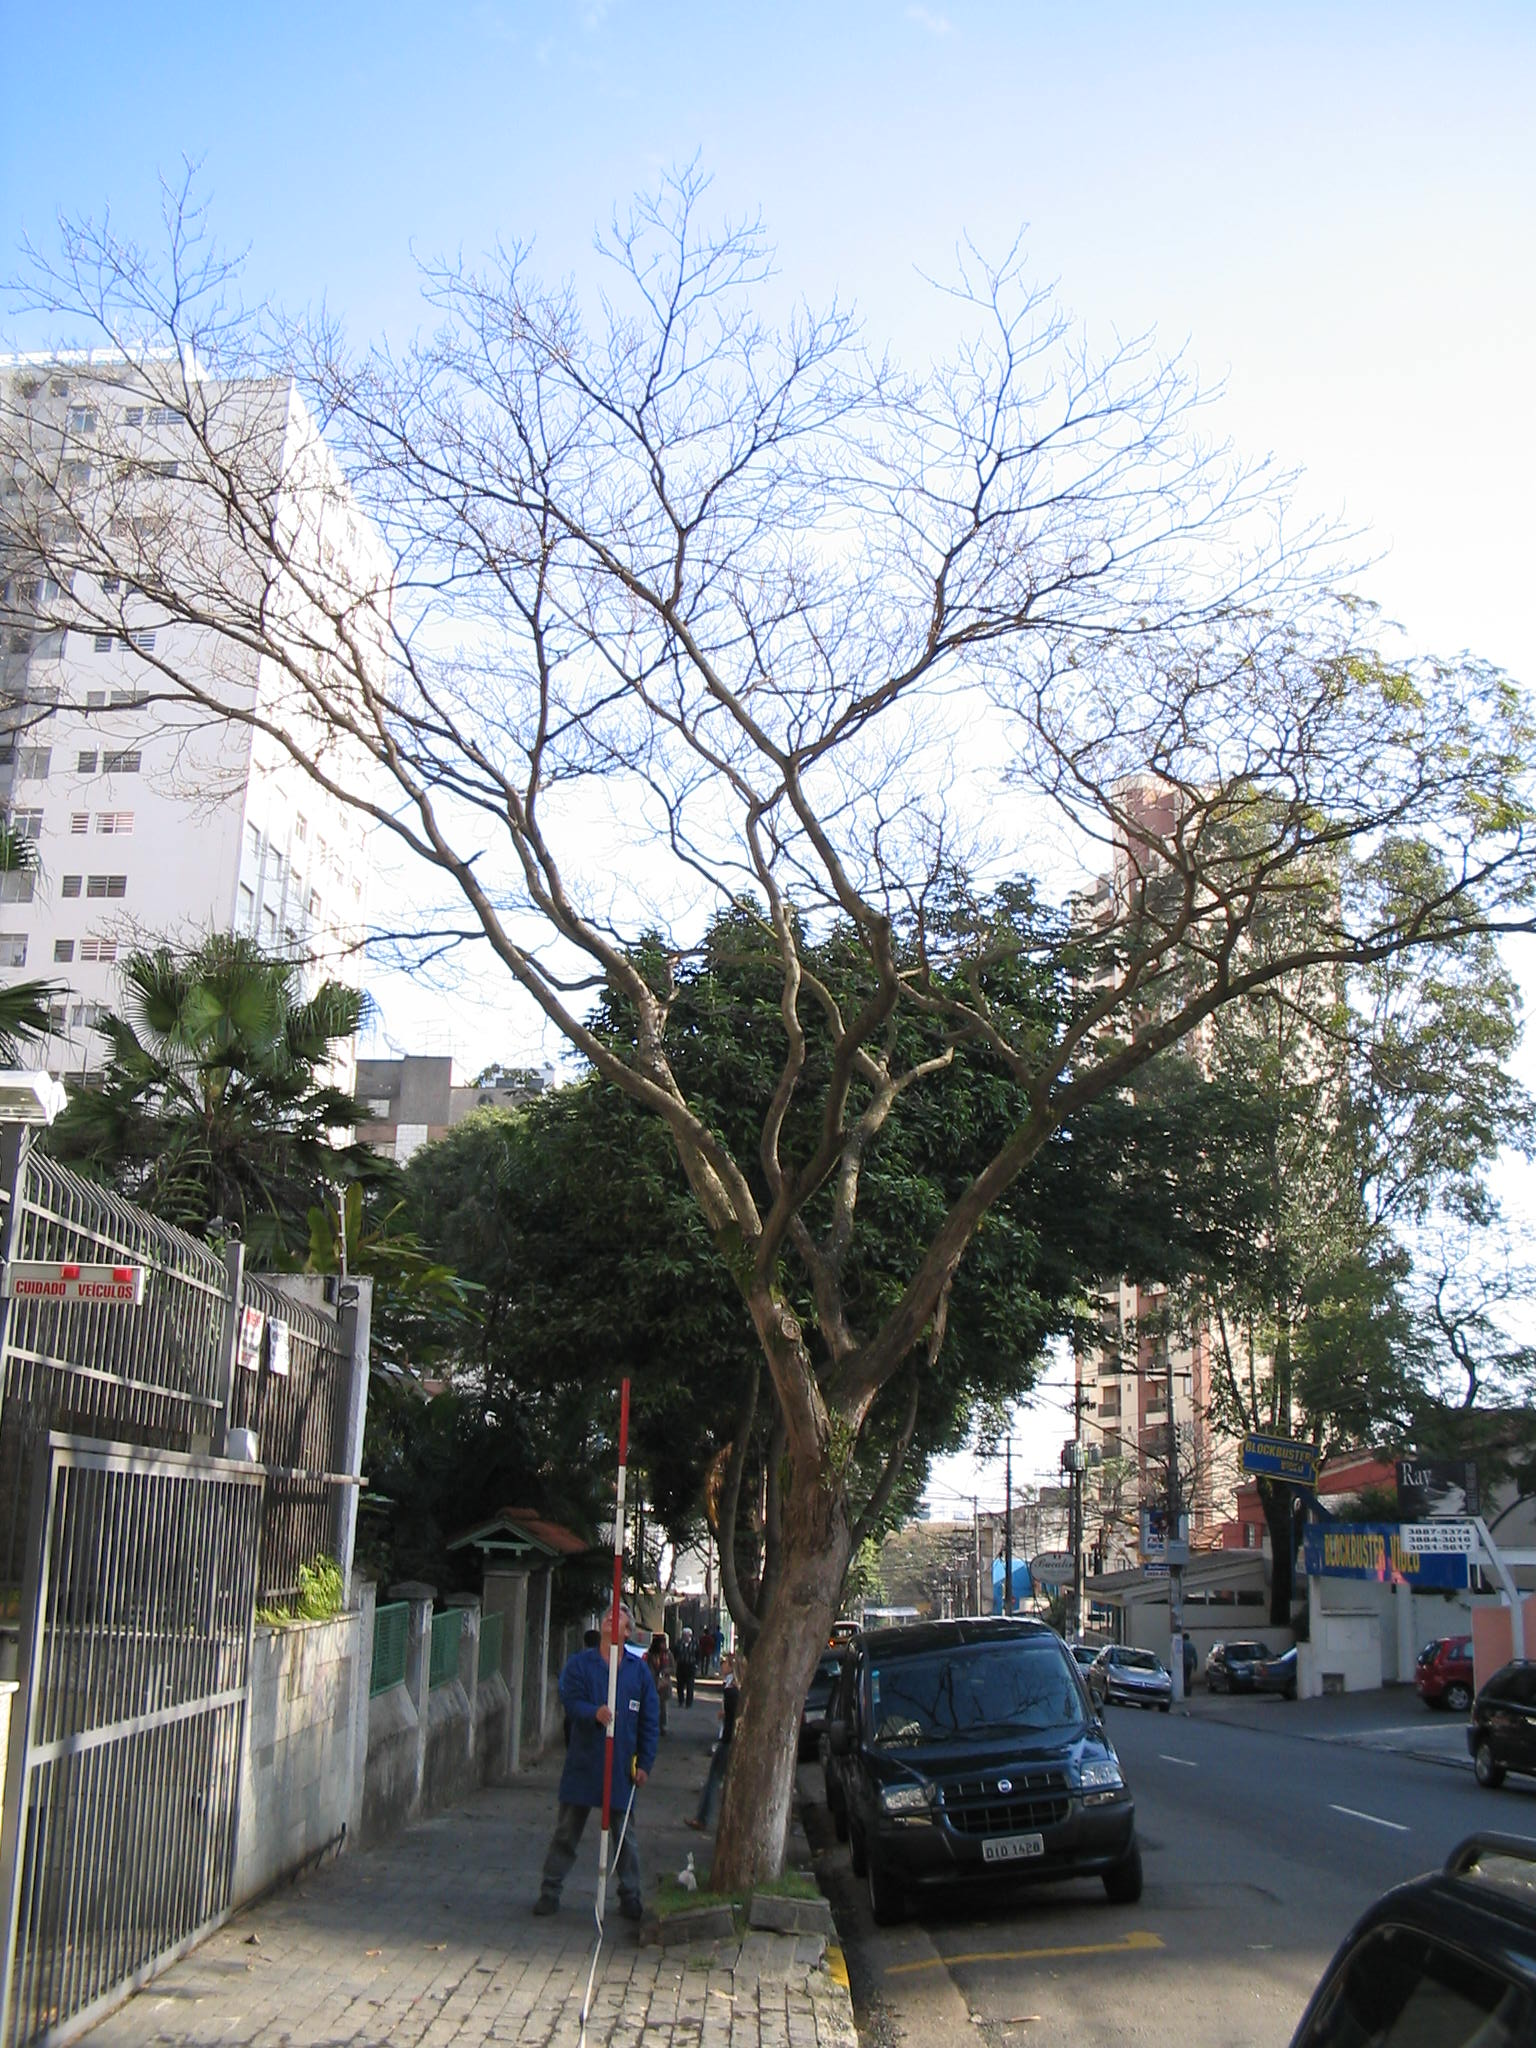stem: (670, 1496, 892, 1900)
stick: (579, 1371, 666, 1925)
tree: (3, 158, 1530, 1896)
